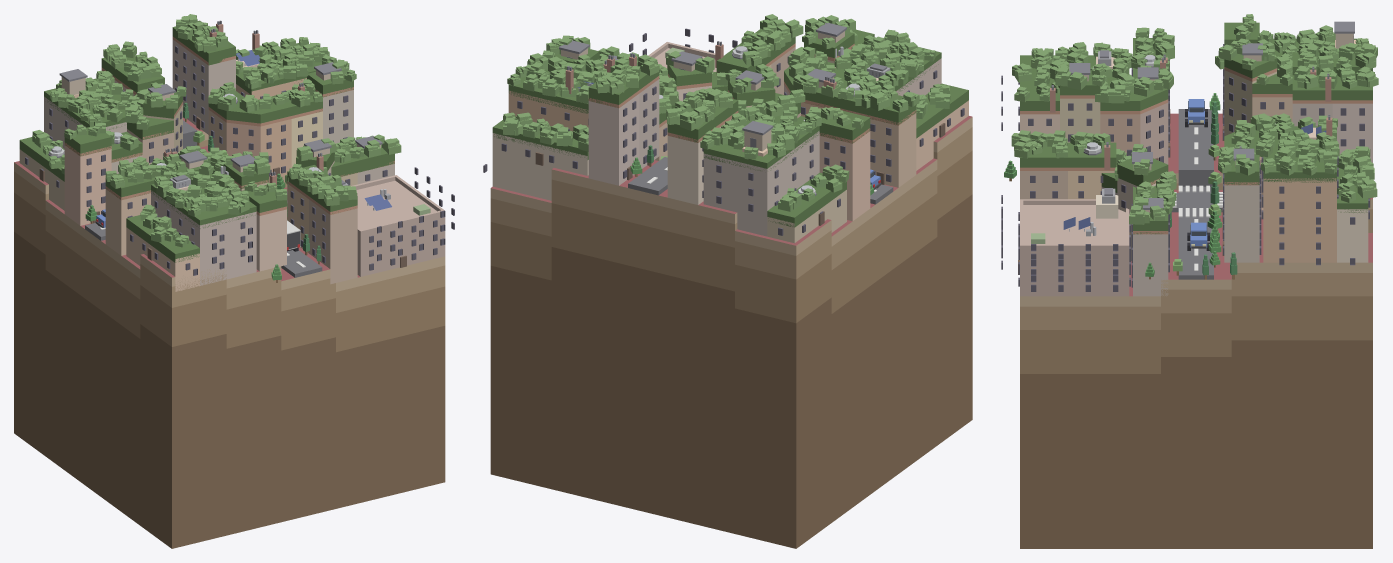
Rendered from block_14_greenroof_70.glb.
3 renders of one model, left to right at view 1: azimuth 30°, elevation 25°; view 2: azimuth 150°, elevation 25°; view 3: azimuth 270°, elevation 25°, orthographic. The views are drawn at different scales.
Parts seen in each view (by area): view 1: Patch_MidRight_b14_GR, Cerda_MidRight_b14_GR, Insets_MidRight_b14_GR, GR_Roof_Cerda_MidRight_b14_GR, CerdaRoofProps_MidRight_b14_GR, GR_Roof_Insets_MidRight_b14_GR, Roads_MidRight_b14_GR; view 2: Patch_MidRight_b14_GR, Insets_MidRight_b14_GR, Cerda_MidRight_b14_GR, GR_Roof_Cerda_MidRight_b14_GR, GR_Roof_Insets_MidRight_b14_GR, CerdaRoofProps_MidRight_b14_GR, Roads_MidRight_b14_GR; view 3: Patch_MidRight_b14_GR, Cerda_MidRight_b14_GR, Insets_MidRight_b14_GR, GR_Roof_Cerda_MidRight_b14_GR, Roads_MidRight_b14_GR, CerdaRoofProps_MidRight_b14_GR, GR_Roof_Insets_MidRight_b14_GR, Asset_Car.028_GR, Asset_Car.029_GR, Zebra_MidRight_b14_GR.
Part boxes in pixels (x1,y1,x2,y2): Patch_MidRight_b14_GR: (14,117,445,548); Cerda_MidRight_b14_GR: (64,36,394,284); Insets_MidRight_b14_GR: (19,60,454,291); GR_Roof_Cerda_MidRight_b14_GR: (64,20,394,213); CerdaRoofProps_MidRight_b14_GR: (48,20,391,210); GR_Roof_Insets_MidRight_b14_GR: (19,43,321,262); Roads_MidRight_b14_GR: (85,120,322,277); Patch_MidRight_b14_GR: (490,116,972,548); Insets_MidRight_b14_GR: (483,28,968,243); Cerda_MidRight_b14_GR: (588,43,916,221); GR_Roof_Cerda_MidRight_b14_GR: (555,29,916,143); GR_Roof_Insets_MidRight_b14_GR: (492,47,968,227); CerdaRoofProps_MidRight_b14_GR: (559,23,890,195); Roads_MidRight_b14_GR: (628,157,893,204); Patch_MidRight_b14_GR: (1020,113,1372,548); Cerda_MidRight_b14_GR: (1020,44,1372,296); Insets_MidRight_b14_GR: (1001,40,1370,296); GR_Roof_Cerda_MidRight_b14_GR: (1020,22,1372,234); Roads_MidRight_b14_GR: (1171,109,1222,279); CerdaRoofProps_MidRight_b14_GR: (1050,21,1354,236); GR_Roof_Insets_MidRight_b14_GR: (1020,38,1368,212); Asset_Car.028_GR: (1187,222,1210,250); Asset_Car.029_GR: (1185,99,1207,127); Zebra_MidRight_b14_GR: (1172,185,1222,217).
Size of the model in its own units: 10.16 by 12.66 by 10.15.
